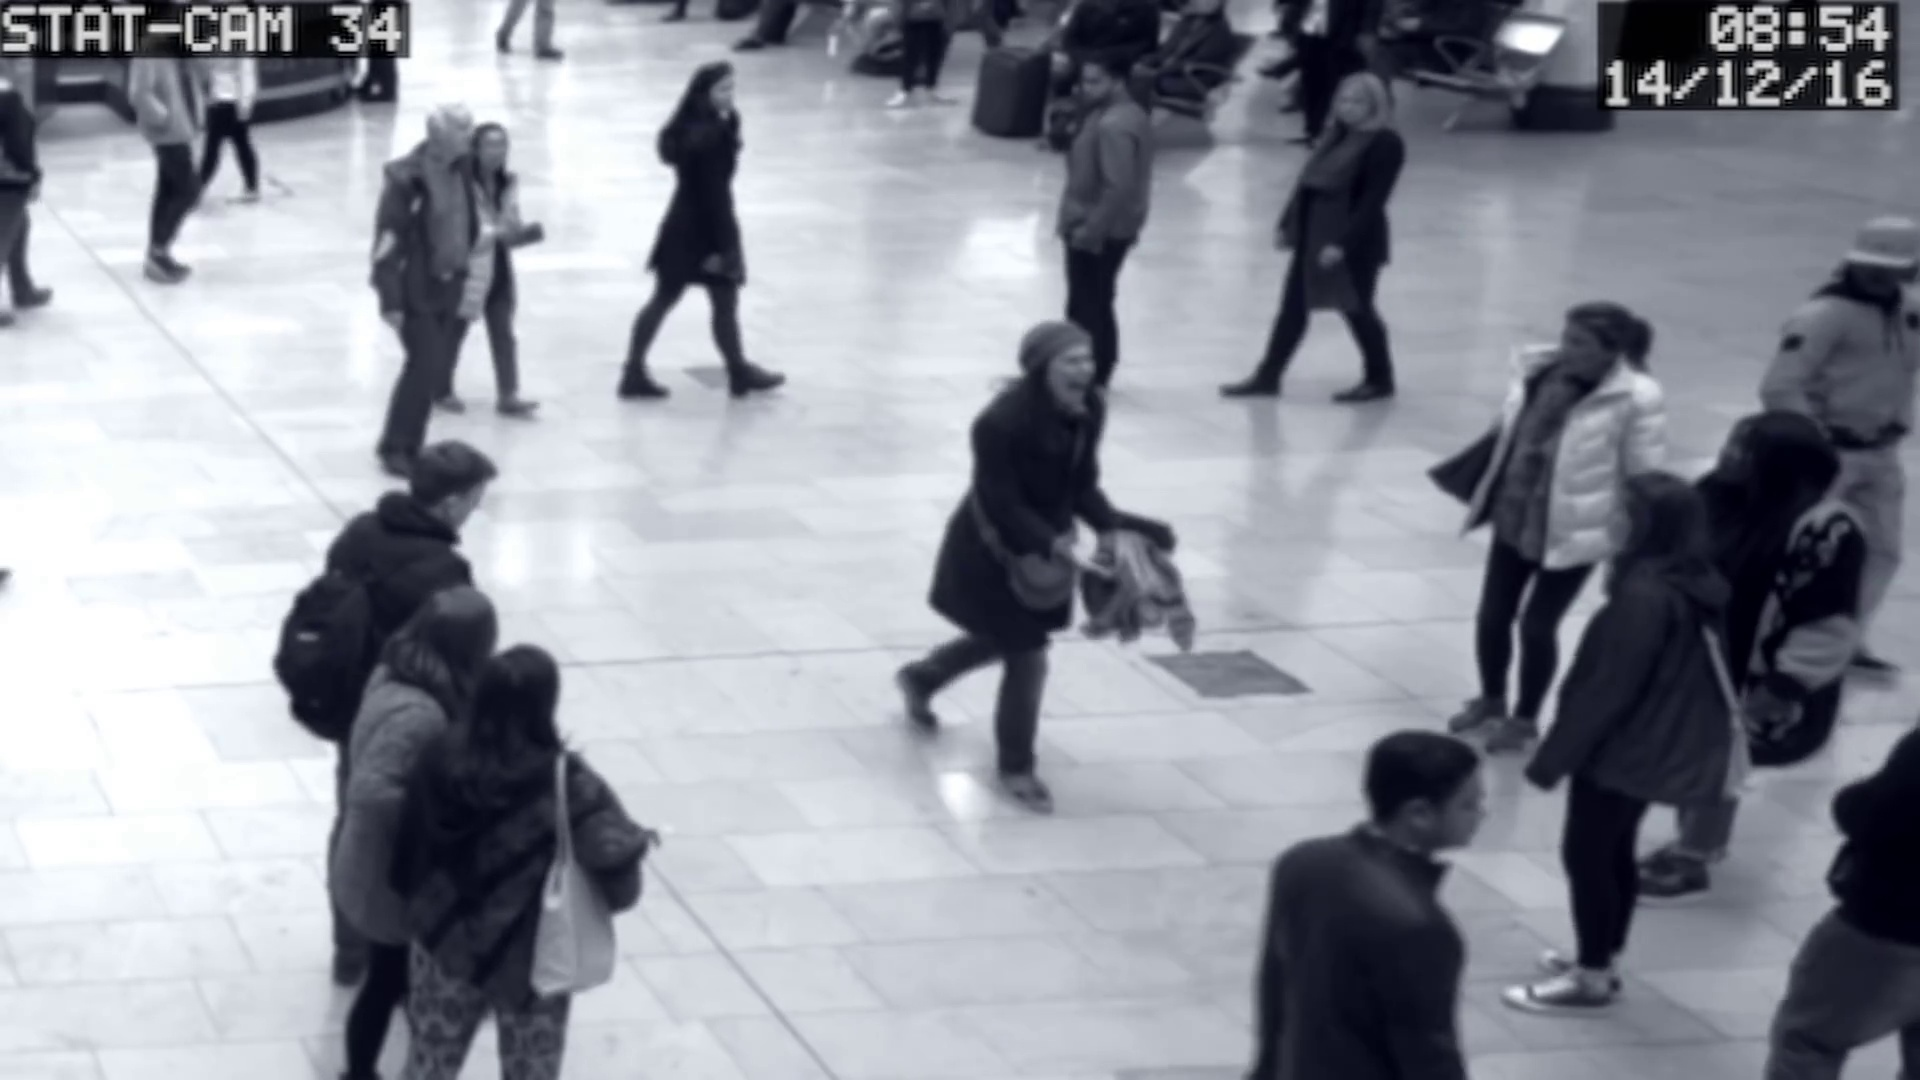face: (1434, 765, 1494, 845), (1043, 342, 1097, 399), (1557, 322, 1603, 382), (1331, 91, 1374, 122), (1077, 65, 1114, 102)
